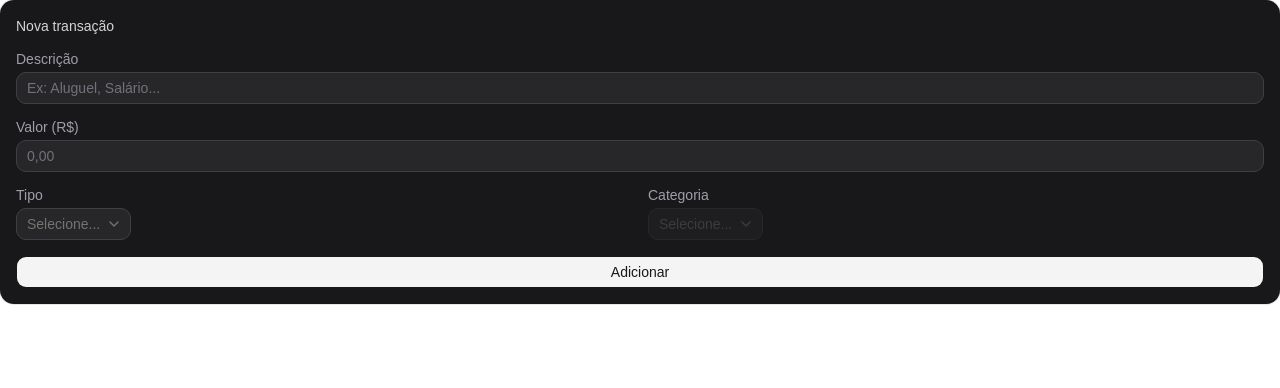
Test: TransactionForm — validação › exibe erros de descrição, tipo e categoria ao submeter com campos vazios
The width and height of the screenshot is (1280, 388).
What coordinates should you click on to do the following:
click the button "Adicionar"
I would click on:
 (640, 272)
Its box is [16,256,1264,288].
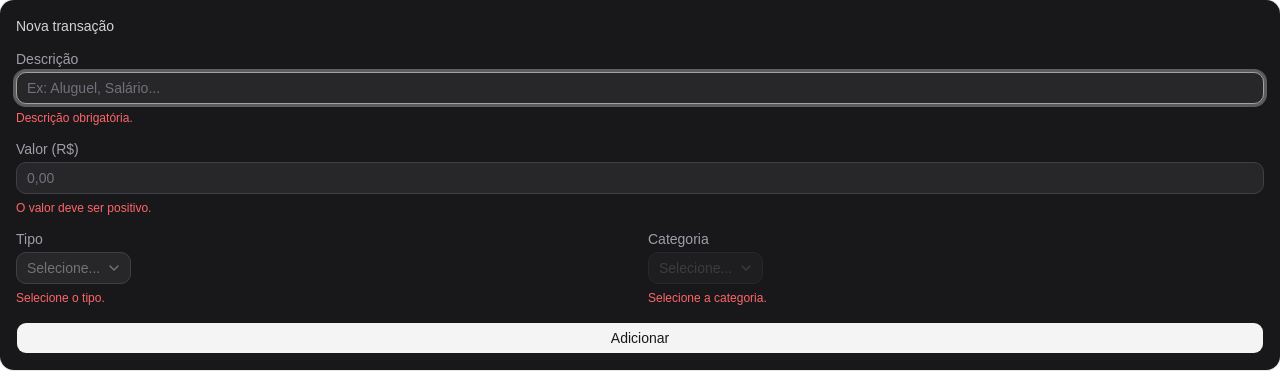
Expected: the text "Descrição obrigatória." is shown, [16,111,133,125]
Expected: the text "Selecione o tipo." is shown, [16,291,105,305]
Expected: the text "Selecione a categoria." is shown, [648,291,767,305]
